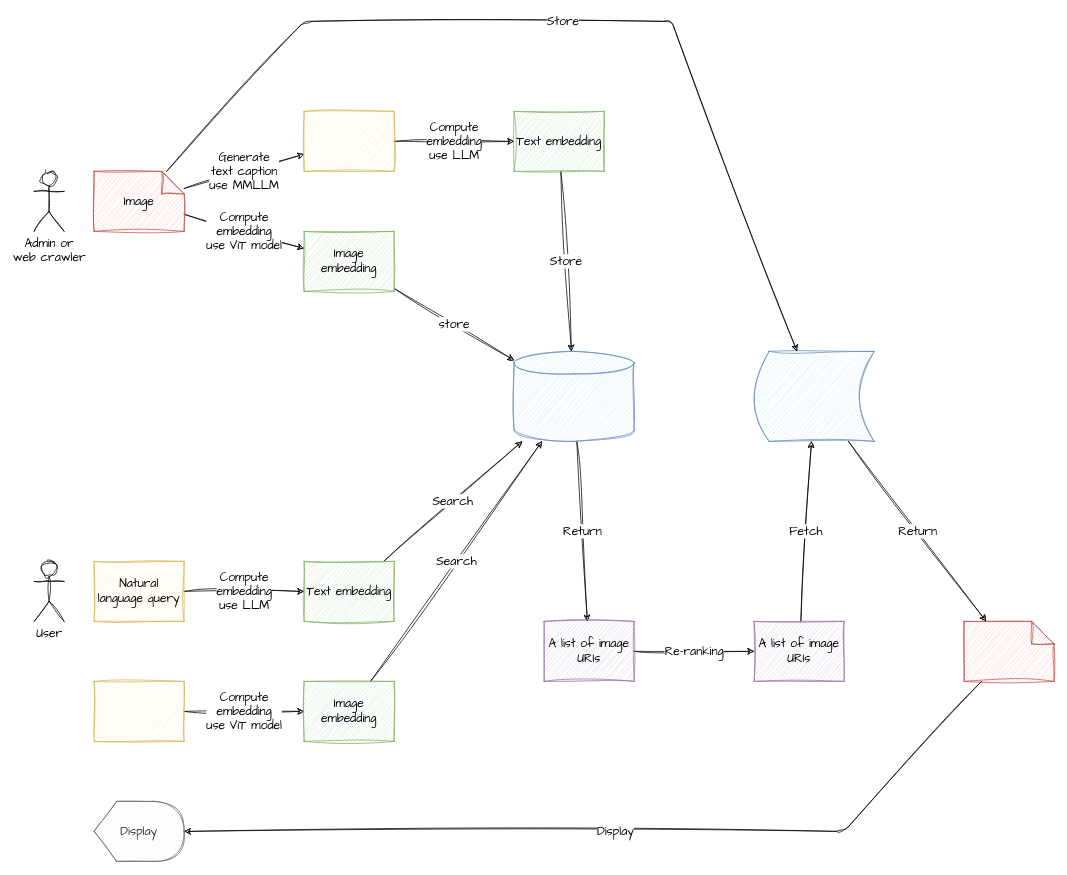
This 1067x875 diagram has some shape labels left out. The centre of each missing label's shape, as x and y in pixels:
"Image storage" belongs at [813,396].
"Images" belongs at [1008,651].
"Similar image query" belongs at [138,711].
"Text caption" belongs at [348,141].
"Vector database" belongs at [573,396].
